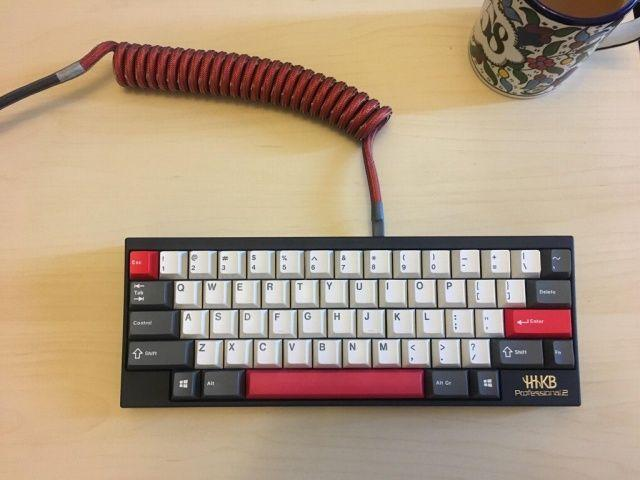keyboard: (119, 234, 581, 408)
